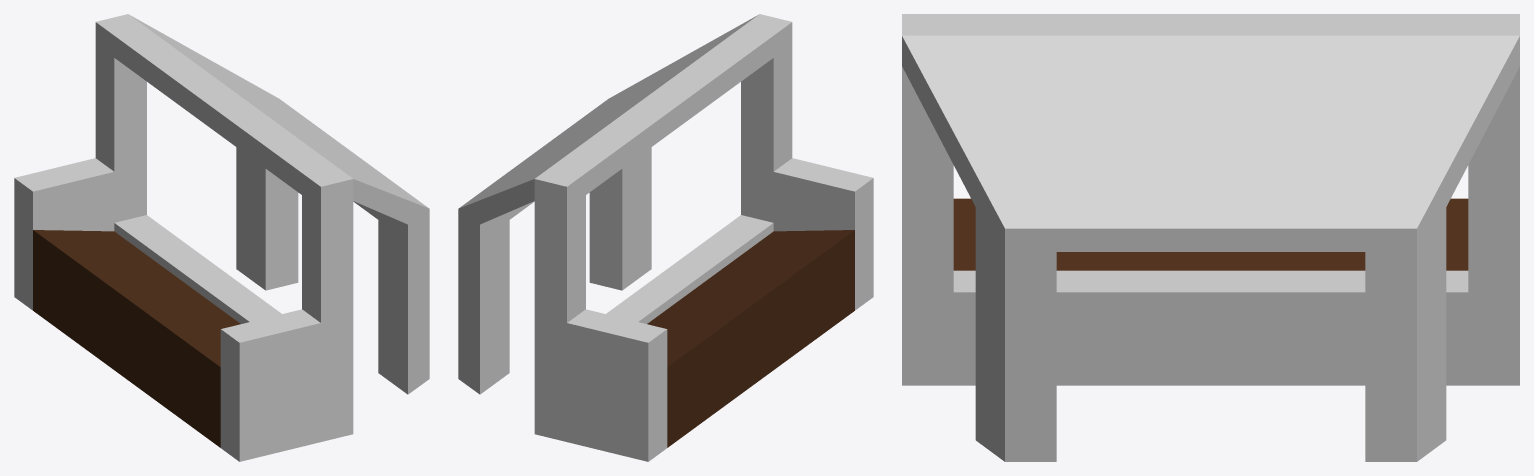
Rendered from DepotObj.fbx.
3 renders of one model, left to right at view 1: azimuth 30°, elevation 25°; view 2: azimuth 150°, elevation 25°; view 3: azimuth 270°, elevation 25°, orthographic. The views are drawn at different scales.
Parts seen in each view (by area): view 1: Depot; view 2: Depot; view 3: Depot.
Boxes of the visible parts, x1,y1,x2,y2 form: Depot: [14, 14, 429, 461]; Depot: [458, 14, 873, 461]; Depot: [902, 14, 1519, 461].
Bounding box in the file's own units: 1400 × 1500 × 2400.
